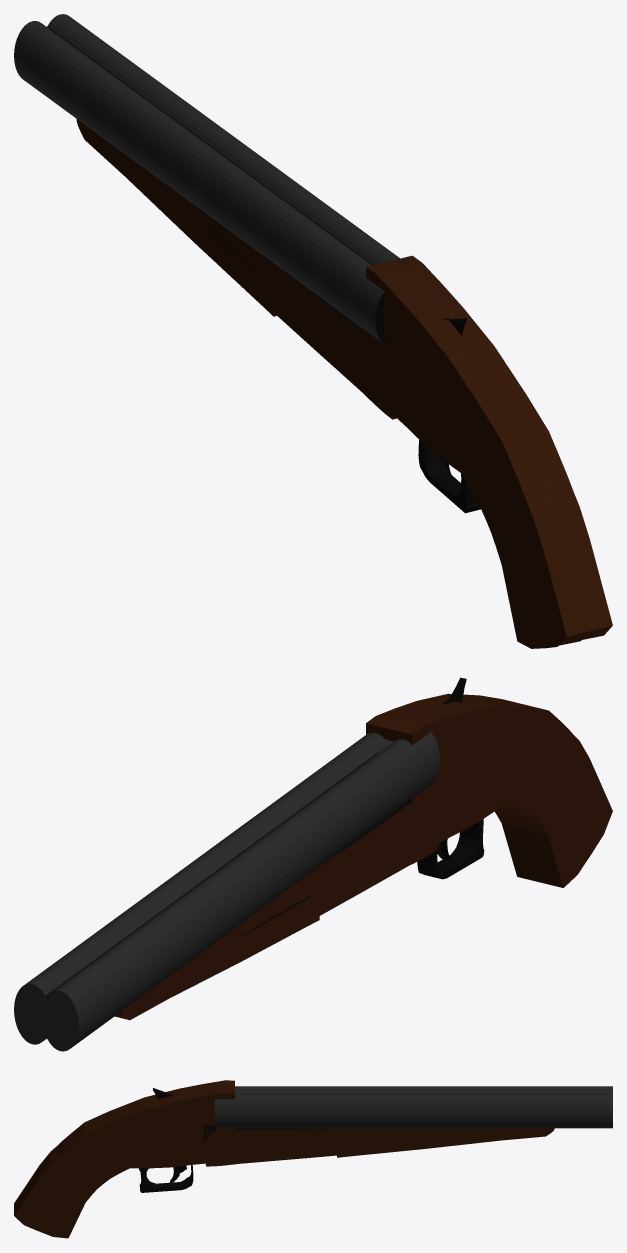
The model's file is shotguncoolo.obj.
3 renders of one model, top to bottom at view 1: azimuth 30°, elevation 25°; view 2: azimuth 150°, elevation 25°; view 3: azimuth 270°, elevation 25°, orthographic. The views are drawn at different scales.
Visible parts, largest first — view 1: Cylinder.001; view 2: Cylinder.001; view 3: Cylinder.001.
Boxes of the visible parts, <box> form: Cylinder.001: <box>14,14,612,648</box>; Cylinder.001: <box>14,677,612,1051</box>; Cylinder.001: <box>14,1080,612,1238</box>.
Size of the model in its own units: 0.1865 by 0.7285 by 2.72.
